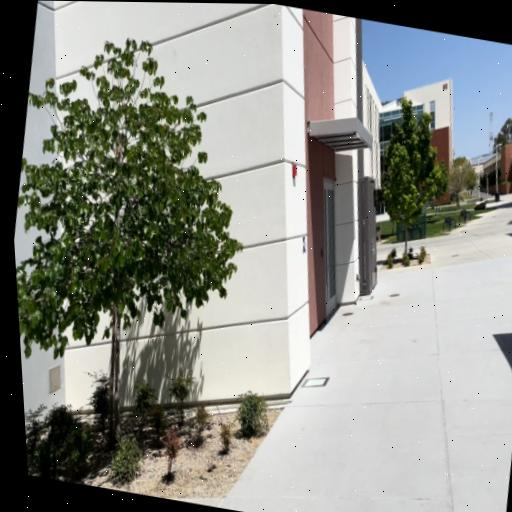target9: (302, 236, 305, 252)
